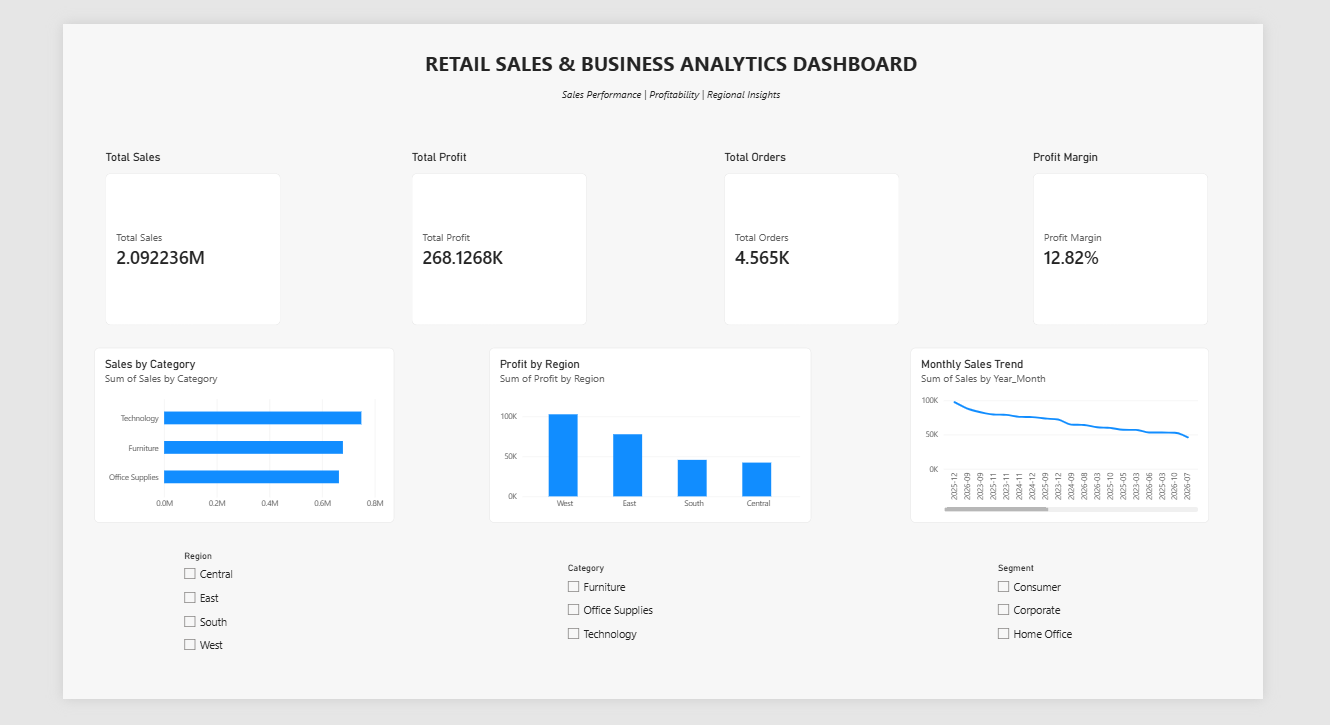

The dashboard page shown, as its layout file describes it:
{"tool":"powerbi","page":{"name":"Page 1","canvas":[1920,1080],"ordinal":0},"visuals":[{"type":"cardVisual","title":"Total Profit","fields":{"Data":["superstore_clean.Total Profit"]},"box":[557.5,202.5,280,280],"z":0},{"type":"cardVisual","title":"Total Sales","fields":{"Data":["superstore_clean.Total Sales"]},"box":[67.5,202.5,280,280],"z":1000},{"type":"cardVisual","title":"Total Orders","fields":{"Data":["superstore_clean.Total Orders"]},"box":[1057.5,202.5,280,280],"z":2000},{"type":"cardVisual","title":"Profit Margin","fields":{"Data":["superstore_clean.Profit Margin"]},"box":[1552.5,202.5,280,280],"z":3000},{"type":"clusteredBarChart","title":"Sales by Category","fields":{"Category":["superstore_historical.Category"],"Y":["Sum(superstore_historical.Sales)"]},"box":[50,517.5,480,280],"z":4000},{"type":"clusteredColumnChart","title":"Profit by Region","fields":{"Category":["superstore_historical.Region"],"Y":["Sum(superstore_historical.Profit)"]},"box":[682.5,517.5,515,280],"z":5000},{"type":"lineChart","title":"Monthly Sales Trend","fields":{"Category":["superstore_historical.Year_Month"],"Y":["Sum(superstore_historical.Sales)"]},"box":[1355,517.5,477.5,280],"z":6000},{"type":"slicer","fields":{"Values":["superstore_historical.Region"]},"box":[185,842.5,280,192.2],"z":6001},{"type":"slicer","fields":{"Values":["superstore_historical.Category"]},"box":[800,862.5,280,153.3],"z":6002},{"type":"slicer","fields":{"Values":["superstore_historical.Segment"]},"box":[1487.5,862.5,247.5,192.5],"z":6003},{"type":"textbox","box":[557.5,40,830,162.5],"z":6004}]}

Visuals, with their boxes on the page's 1920x1080 design canvas (x1, y1, x2, y2). These are canvas units, not pixel positions in the 1330x725 screenshot, which may show the page scaled, cropped or inside an application window:
"Total Profit" cardVisual: <region>558, 202, 838, 482</region>
"Total Sales" cardVisual: <region>68, 202, 348, 482</region>
"Total Orders" cardVisual: <region>1058, 202, 1338, 482</region>
"Profit Margin" cardVisual: <region>1552, 202, 1832, 482</region>
"Sales by Category" clusteredBarChart: <region>50, 518, 530, 798</region>
"Profit by Region" clusteredColumnChart: <region>682, 518, 1198, 798</region>
"Monthly Sales Trend" lineChart: <region>1355, 518, 1832, 798</region>
slicer - superstore_historical.Region: <region>185, 842, 465, 1035</region>
slicer - superstore_historical.Category: <region>800, 862, 1080, 1016</region>
slicer - superstore_historical.Segment: <region>1488, 862, 1735, 1055</region>
textbox: <region>558, 40, 1388, 202</region>
